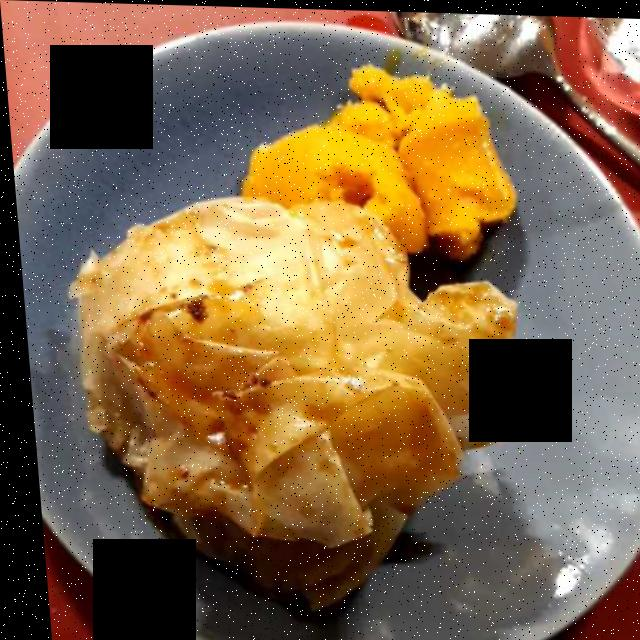dairy-ice-cream: (240, 63, 504, 257)
fruit-tart: (57, 199, 588, 575)
